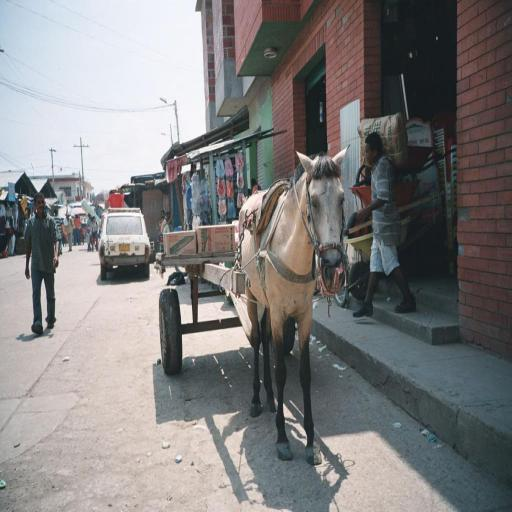horse: (236, 144, 352, 460)
